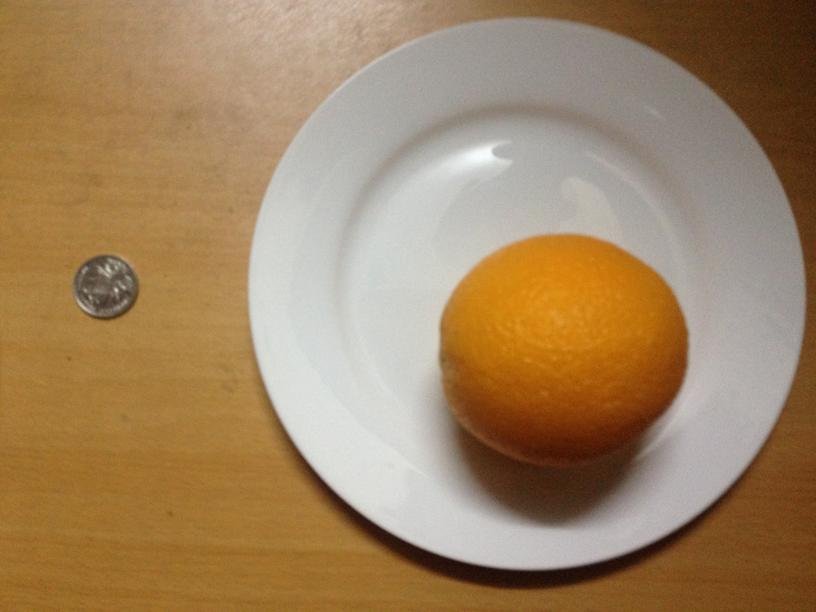coin: (74, 255, 139, 317)
orange: (435, 238, 692, 469)
